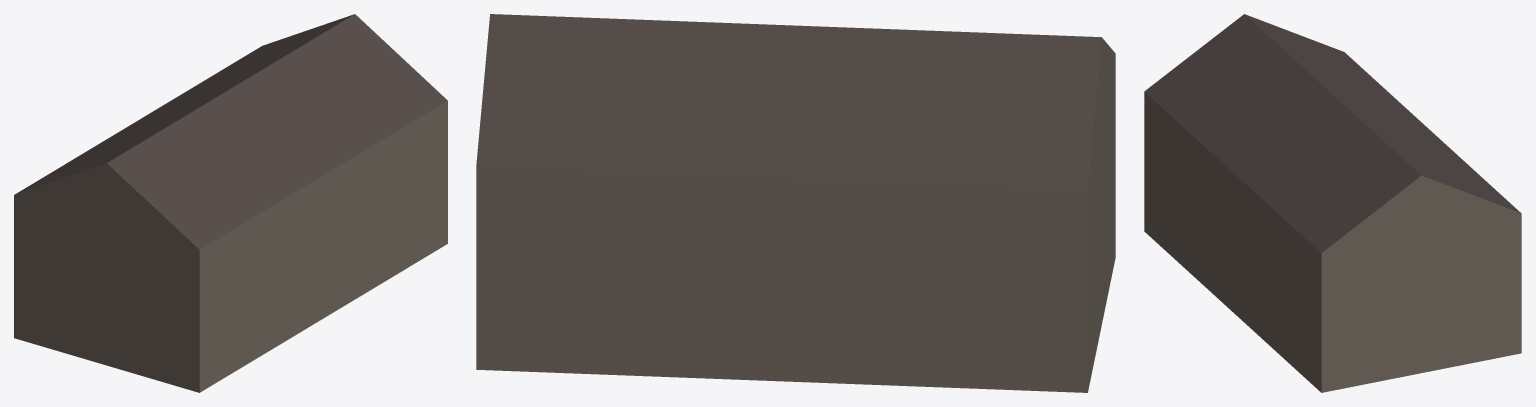
3 views of the same model, side by side, from view 1: azimuth 30°, elevation 25°; view 2: azimuth 150°, elevation 25°; view 3: azimuth 270°, elevation 25° (orthographic). The views are drawn at different scales.
Parts seen in each view (by area): view 1: HP-w859488744; view 2: HP-w859488744; view 3: HP-w859488744.
Part boxes in pixels (left/top/right/bottom): HP-w859488744: left=14, top=14, right=447, bottom=392; HP-w859488744: left=476, top=14, right=1115, bottom=392; HP-w859488744: left=1144, top=14, right=1521, bottom=392.
Size of the model in its own units: 27.78 by 12.72 by 22.03.
